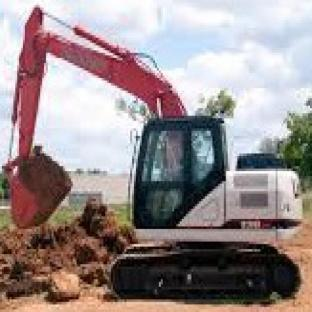ExcavationMachinery: (13, 14, 303, 304)
